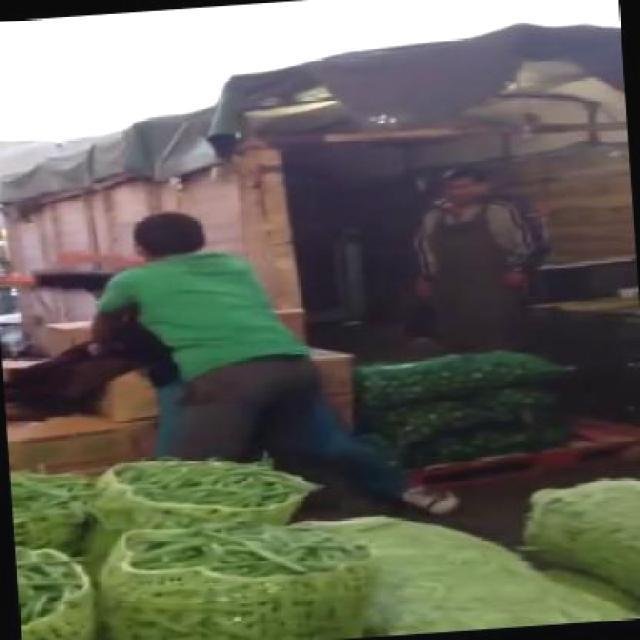fight: (56, 200, 339, 462)
non-fight: (393, 160, 552, 348)
